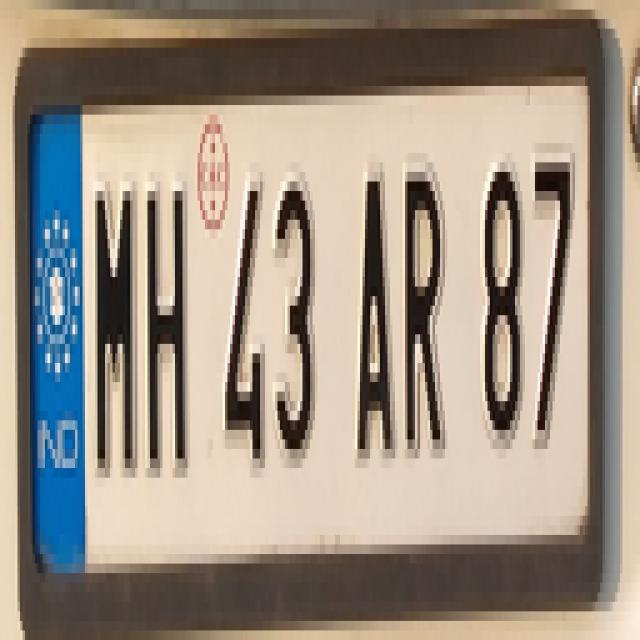3: (272, 160, 320, 474)
4: (219, 157, 271, 498)
7: (527, 133, 576, 456)
8: (474, 155, 526, 466)
A: (351, 152, 401, 493)
H: (141, 167, 196, 500)
M: (88, 152, 140, 488)
R: (394, 130, 450, 482)
